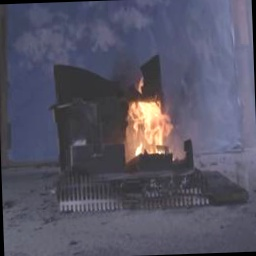fire: (119, 83, 176, 160)
